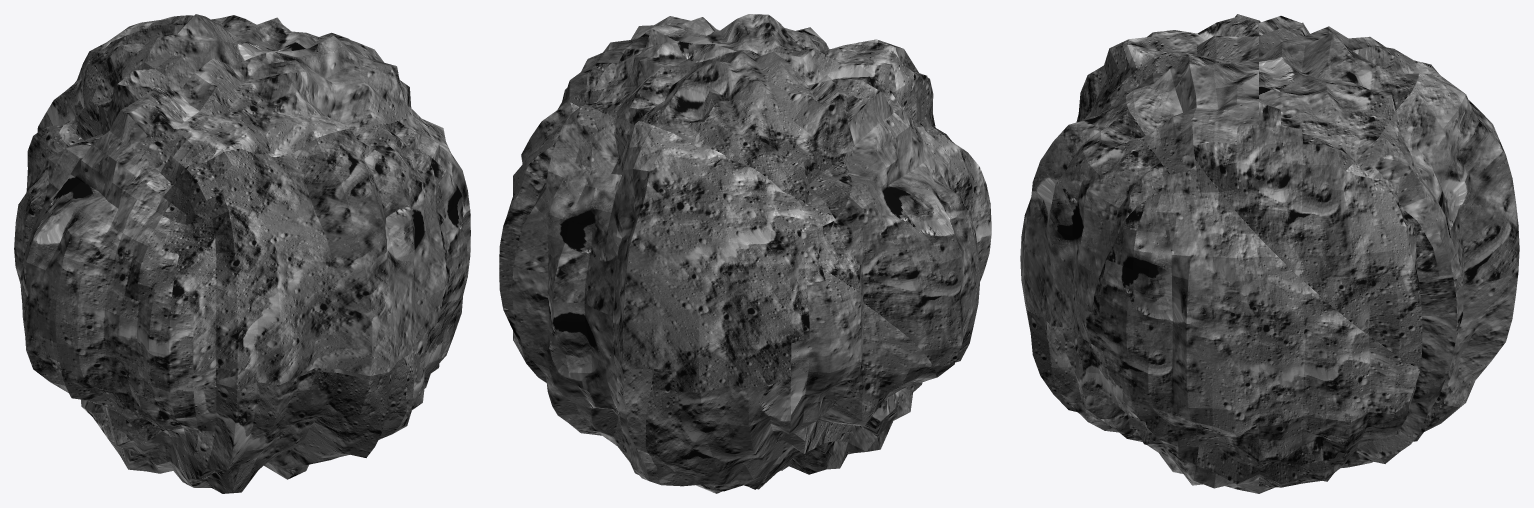
Rendered from asteroid6.obj.
The picture shows the model from 3 angles, left to right: view 1: azimuth 30°, elevation 25°; view 2: azimuth 150°, elevation 25°; view 3: azimuth 270°, elevation 25°; orthographic projection.
Parts seen in each view (by area): view 1: Cube_Cube.002; view 2: Cube_Cube.002; view 3: Cube_Cube.002.
Boxes of the visible parts, left/top/right/bottom form: Cube_Cube.002: left=14, top=14, right=470, bottom=493; Cube_Cube.002: left=499, top=14, right=991, bottom=493; Cube_Cube.002: left=1020, top=14, right=1519, bottom=493.
Size of the model in its own units: 1.75 by 1.76 by 1.85.
